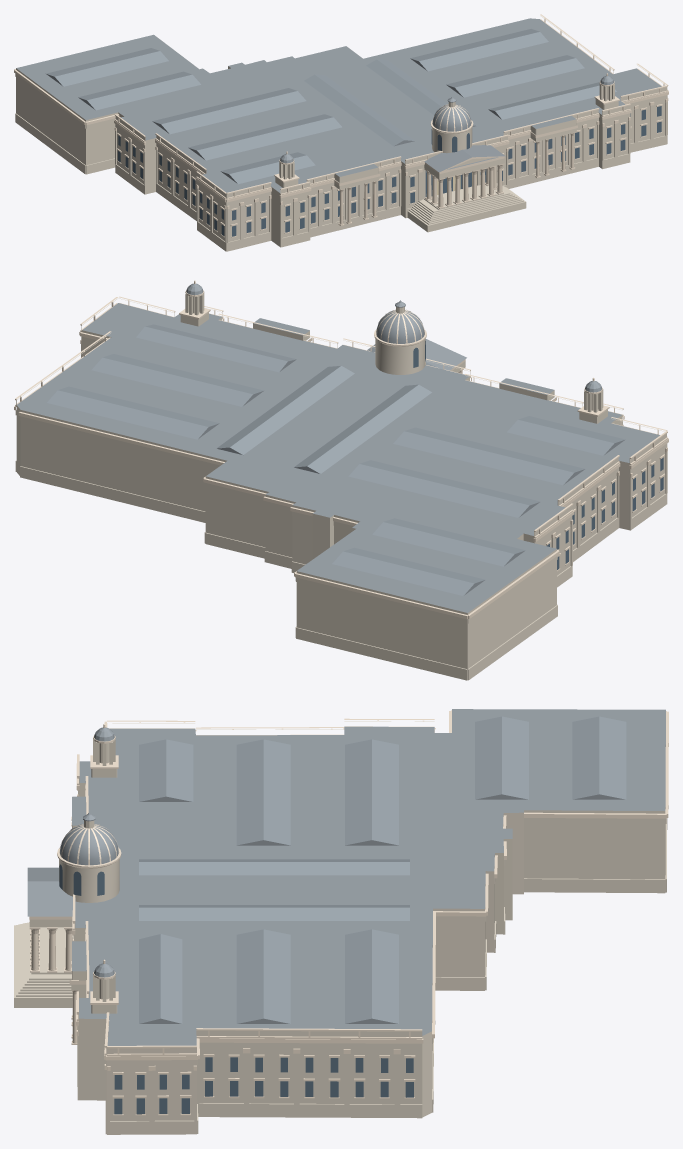
The model's file is london-national-gallery.detail.glb.
3 renders of one model, top to bottom at view 1: azimuth 30°, elevation 25°; view 2: azimuth 150°, elevation 25°; view 3: azimuth 270°, elevation 25°, orthographic. The views are drawn at different scales.
Visible parts, largest first — view 1: National Gallery; view 2: National Gallery; view 3: National Gallery.
Part boxes in pixels (<box>): National Gallery: <box>14,14,668,251</box>; National Gallery: <box>14,280,668,680</box>; National Gallery: <box>14,709,668,1134</box>.
Size of the model in its own units: 151 by 32.4 by 121.
